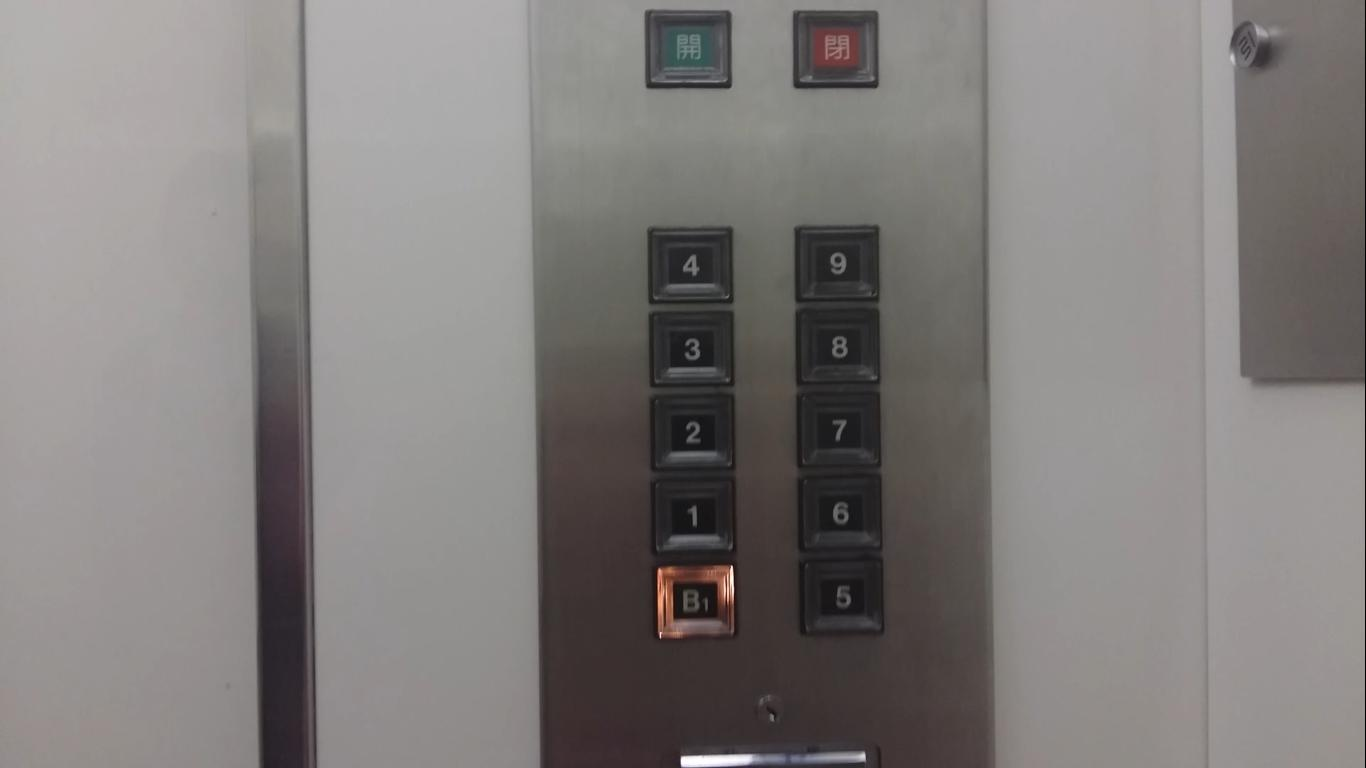1: (645, 473, 742, 556)
2: (643, 388, 740, 471)
3: (643, 307, 740, 390)
4: (642, 222, 739, 305)
5: (793, 556, 890, 639)
6: (792, 471, 889, 554)
7: (790, 388, 887, 471)
8: (787, 306, 884, 389)
9: (789, 221, 886, 304)
B1: (645, 559, 742, 642)
text_close: (788, 4, 885, 87)
text_open: (639, 6, 739, 94)
